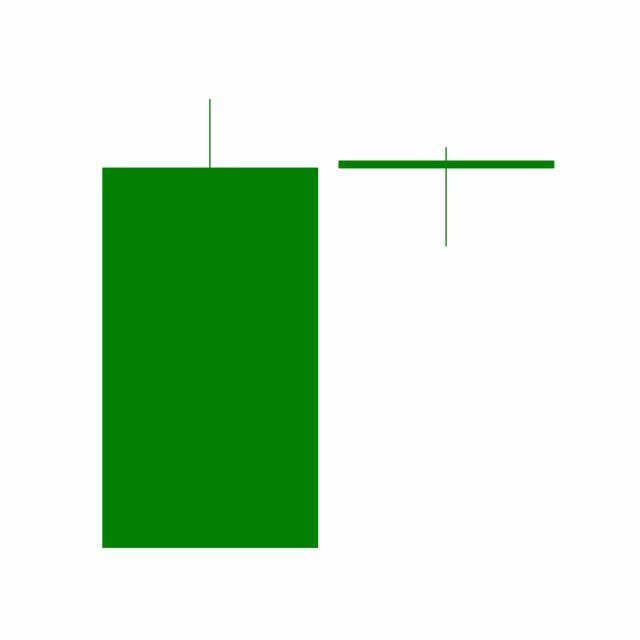Dragonfly Doji: (328, 146, 566, 249)
